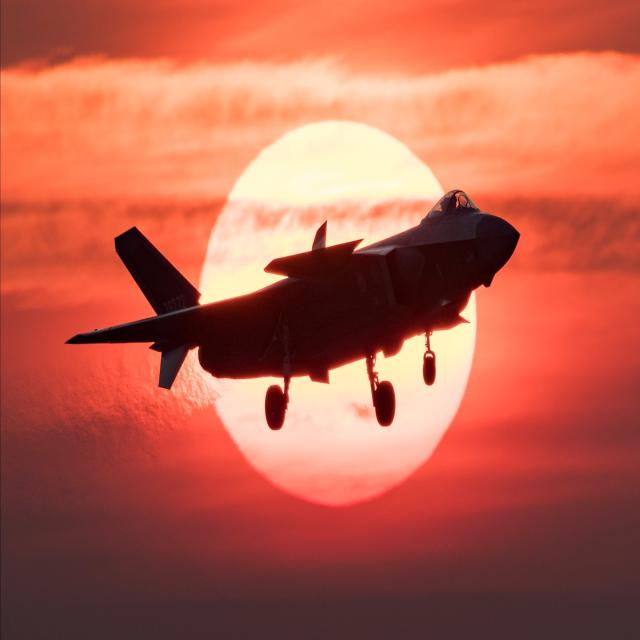MIL_Plane: (64, 188, 521, 430)
